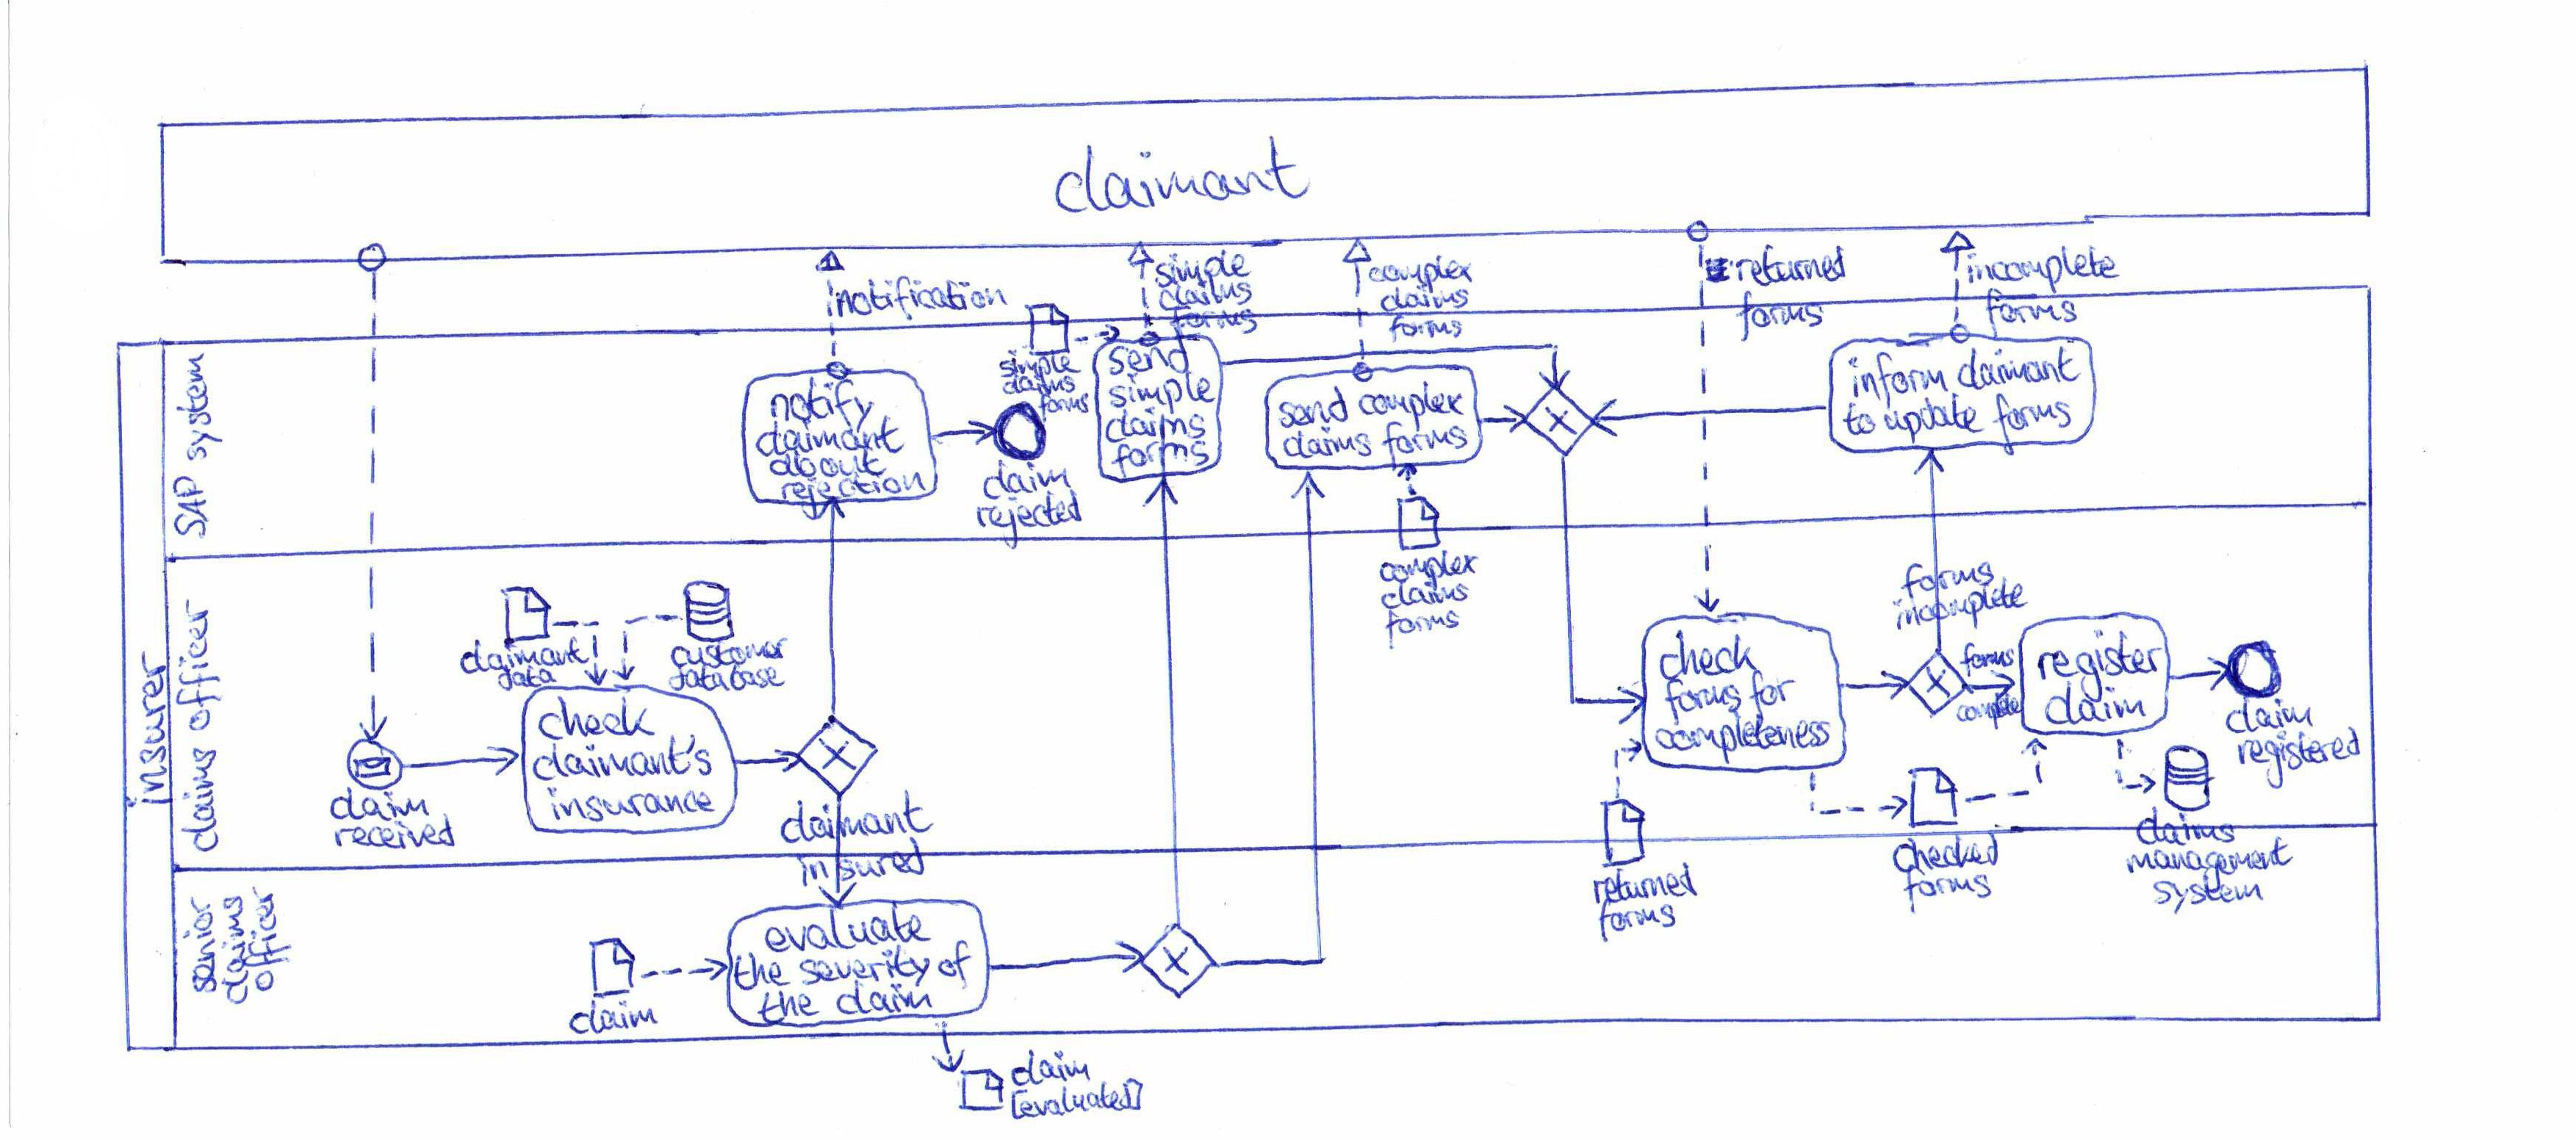Checked: (1894, 834, 2001, 879)
Insurer: (136, 654, 174, 815)
SAP: (168, 476, 215, 539)
System: (2155, 877, 2264, 908)
[evaluated]: (1000, 1079, 1145, 1125)
about: (772, 445, 889, 480)
check: (537, 693, 662, 744), (1658, 623, 1750, 685)
claim: (2223, 696, 2315, 739), (2047, 690, 2152, 724), (982, 460, 1074, 499), (838, 984, 933, 1020), (572, 1000, 659, 1038), (327, 792, 432, 823), (1010, 1051, 1092, 1089)
claimant: (1051, 141, 1306, 215), (777, 793, 933, 849), (1958, 343, 2083, 396), (457, 636, 578, 677), (754, 424, 905, 457)
claimant's: (531, 738, 716, 785)
claims: (179, 736, 223, 854), (217, 895, 251, 1002), (1102, 411, 1209, 444), (2132, 816, 2236, 849), (1281, 427, 1377, 462), (1158, 278, 1253, 310), (1382, 578, 1470, 611), (1378, 284, 1470, 315), (1000, 375, 1079, 396)
complete: (1955, 693, 2026, 728)
completeness: (1653, 716, 1833, 759)
complex: (1357, 383, 1467, 425), (1368, 251, 1475, 286), (1380, 550, 1479, 583)
customer: (670, 636, 787, 669)
data: (498, 665, 557, 692)
database: (669, 664, 785, 695)
evaluate: (766, 907, 935, 958)
for: (1741, 672, 1797, 715)
forms: (1898, 554, 2001, 601), (1737, 291, 1827, 340), (1898, 869, 1994, 912), (1990, 388, 2072, 437), (1592, 899, 1679, 941), (1380, 419, 1474, 458), (1658, 678, 1740, 723), (1978, 297, 2078, 332), (1170, 299, 1260, 337), (1114, 440, 1207, 473), (1382, 604, 1462, 639), (1385, 314, 1467, 340), (1962, 639, 2016, 673), (1033, 391, 1091, 419)
incomplete: (1957, 241, 2119, 292), (1894, 595, 2026, 641)
inform: (1845, 352, 1953, 407)
insurance: (550, 788, 718, 826)
insured: (795, 839, 930, 892)
management: (2127, 838, 2293, 874)
notification: (830, 276, 1010, 324)
notify: (770, 389, 874, 425)
of: (935, 943, 976, 986)
officer: (171, 583, 218, 729), (245, 885, 279, 987)
received: (332, 820, 458, 853)
register: (2032, 636, 2167, 685)
registered: (2238, 723, 2367, 782)
rejected: (974, 493, 1083, 537)
rejection: (779, 470, 927, 499)
returned: (1589, 862, 1699, 910), (1728, 245, 1850, 287)
send: (1273, 389, 1352, 432), (1107, 342, 1191, 378)
senior: (187, 899, 217, 994)
severity: (795, 946, 927, 987)
simple: (1152, 246, 1250, 283), (1112, 376, 1214, 411), (999, 348, 1086, 383)
system: (171, 350, 215, 468)
the: (729, 953, 789, 989), (759, 987, 821, 1020)
to: (1843, 404, 1878, 439)
update: (1888, 396, 1986, 440)
